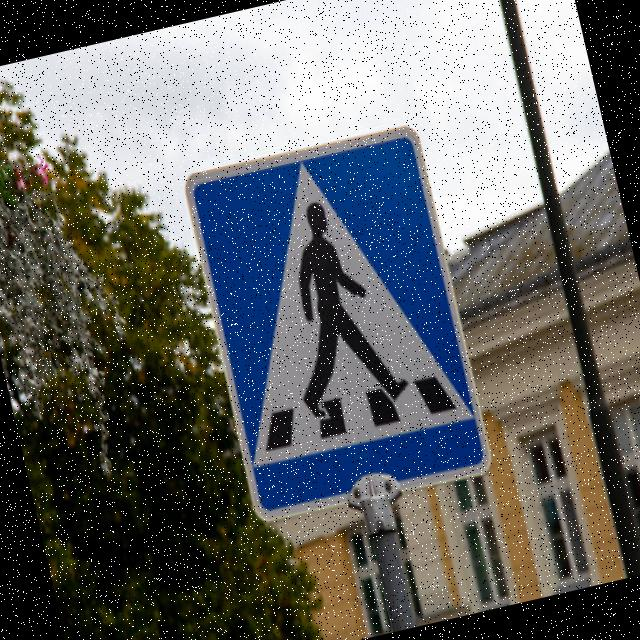crosswalk: (166, 104, 517, 534)
